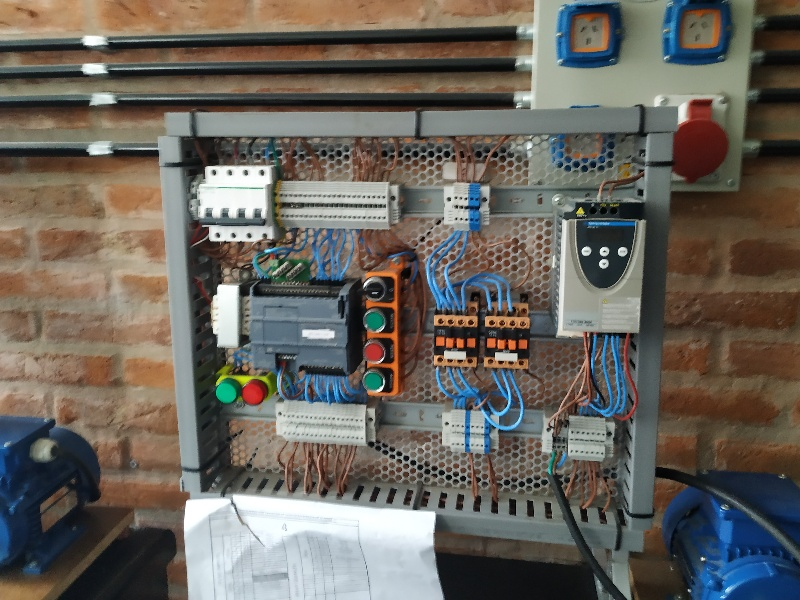Tablero 4: (174, 127, 649, 540)
